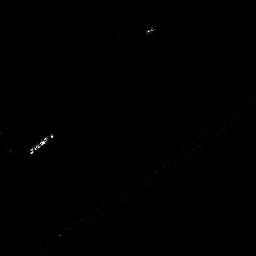ship: (28, 132, 55, 156)
